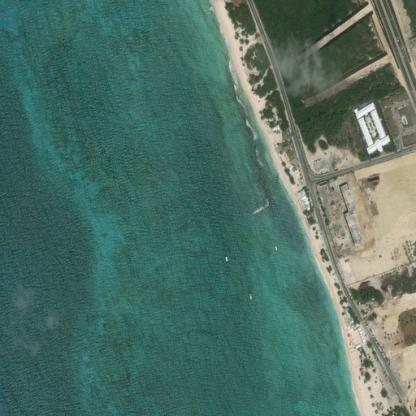ship: (218, 249, 232, 265), (244, 287, 256, 304), (271, 240, 281, 252)
